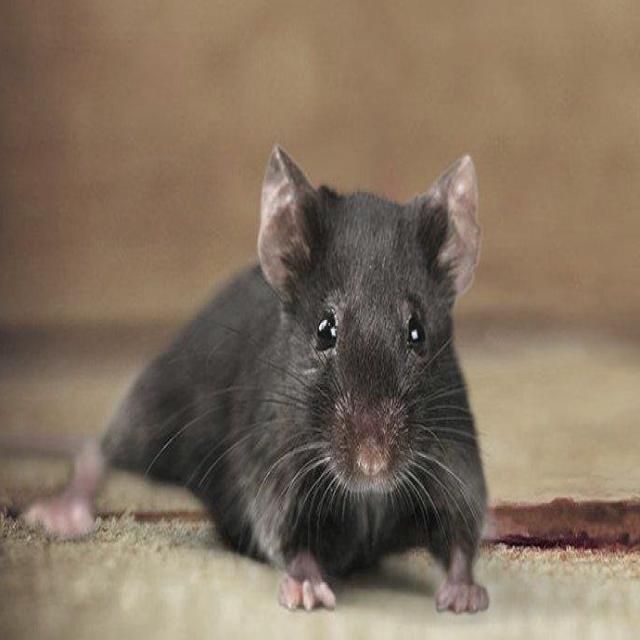rat: (25, 146, 488, 612)
